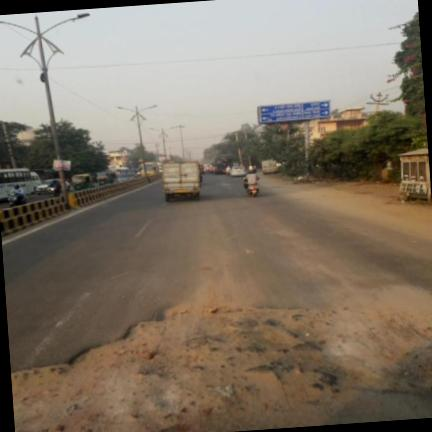Road: (2, 176, 431, 370)
